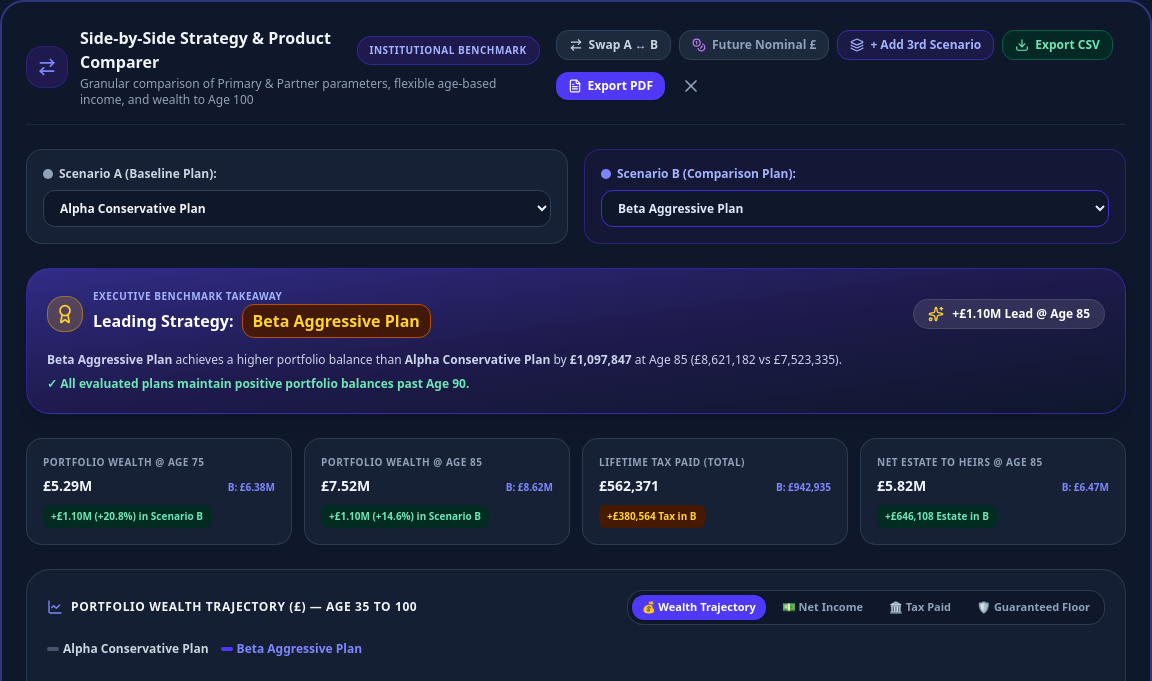
Scenario: ScenarioComparer › allows adding and removing a 3rd scenario (Scenario C)
This screenshot has width=1152, height=681.
What coordinates should you click on to do the following:
click the button "+ Add 3rd Scenario"
I would click on:
 (916, 45)
Its box is [837,30,994,60].
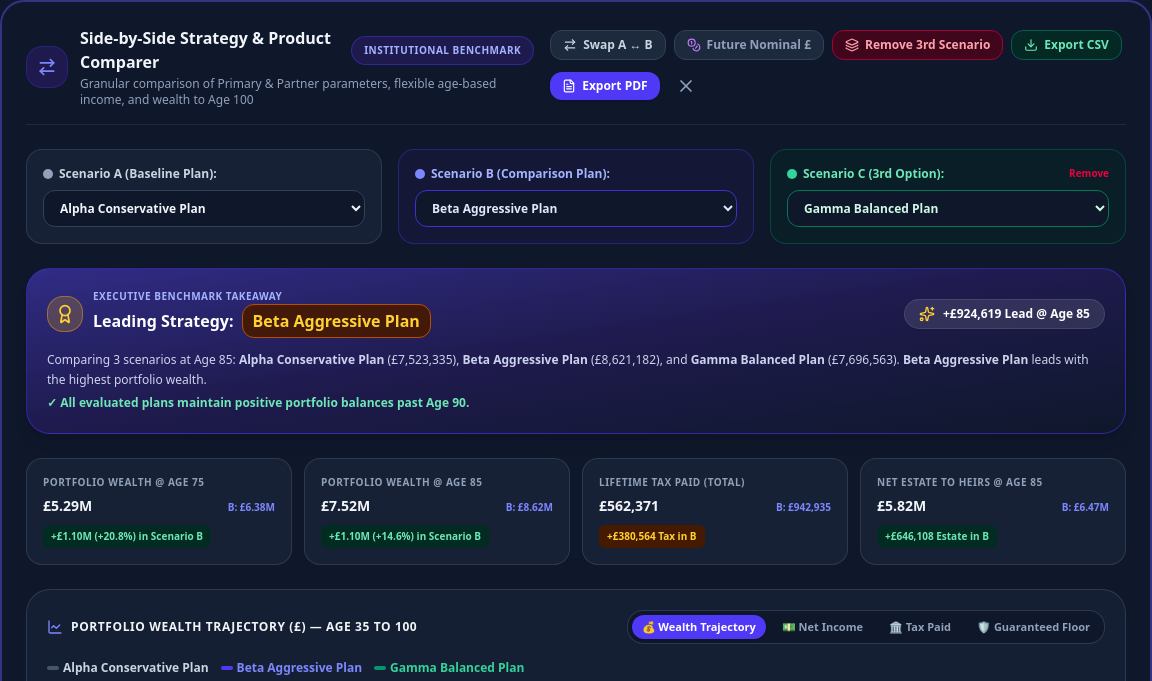
Check: the text "Scenario C (3rd Option):" is shown, box [803,166,944,182]
What coordinates should you click on to do the following:
click the button "Remove 3rd Scenario"
I would click on:
 (918, 45)
Its box is [832,30,1003,60].
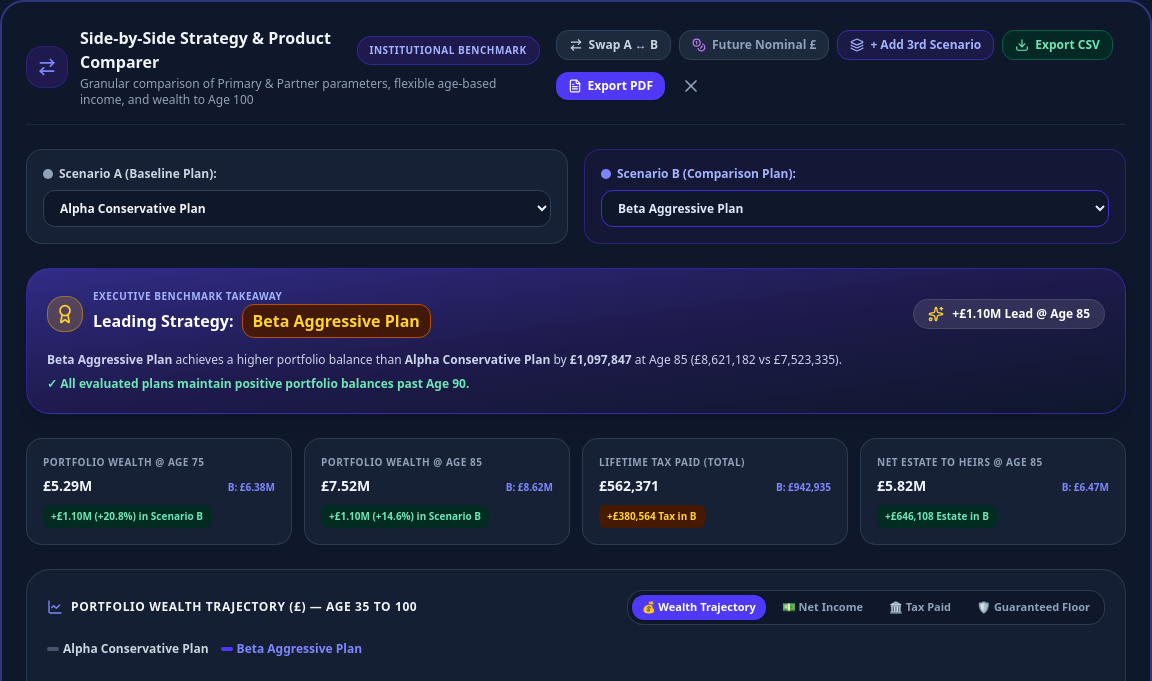
Check: the text "Scenario C (3rd Option):" is gone
